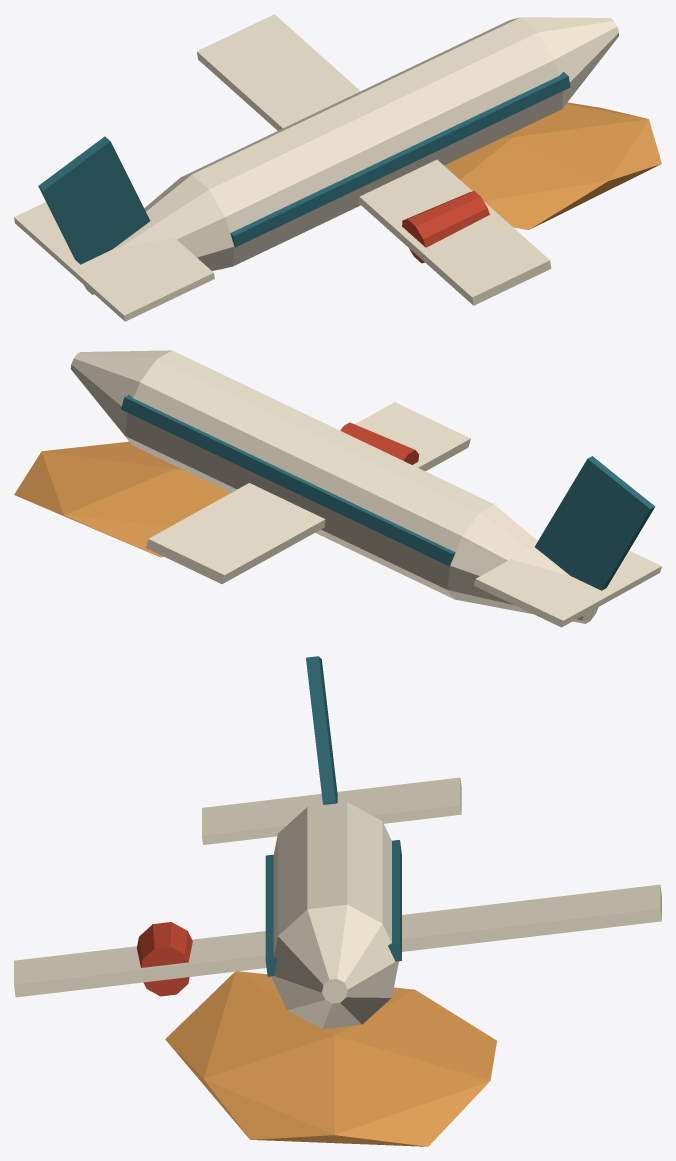
The model's file is aircraft_wreck.glb.
3 views of the same model, one above another, from view 1: azimuth 30°, elevation 25°; view 2: azimuth 150°, elevation 25°; view 3: azimuth 270°, elevation 25° (orthographic). The views are drawn at different scales.
Visible parts, largest first — view 1: aircraft_wreck; view 2: aircraft_wreck; view 3: aircraft_wreck.
Boxes of the visible parts, <box> form: aircraft_wreck: <box>14,14,661,321</box>; aircraft_wreck: <box>14,350,661,627</box>; aircraft_wreck: <box>14,656,661,1146</box>.
Bounding box in the file's own units: 20.1 × 5.27 × 14.93.
